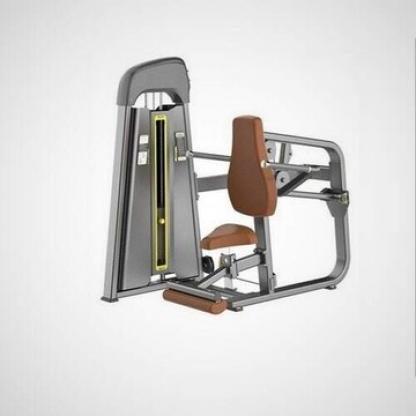seated dip machine: (101, 53, 360, 318)
